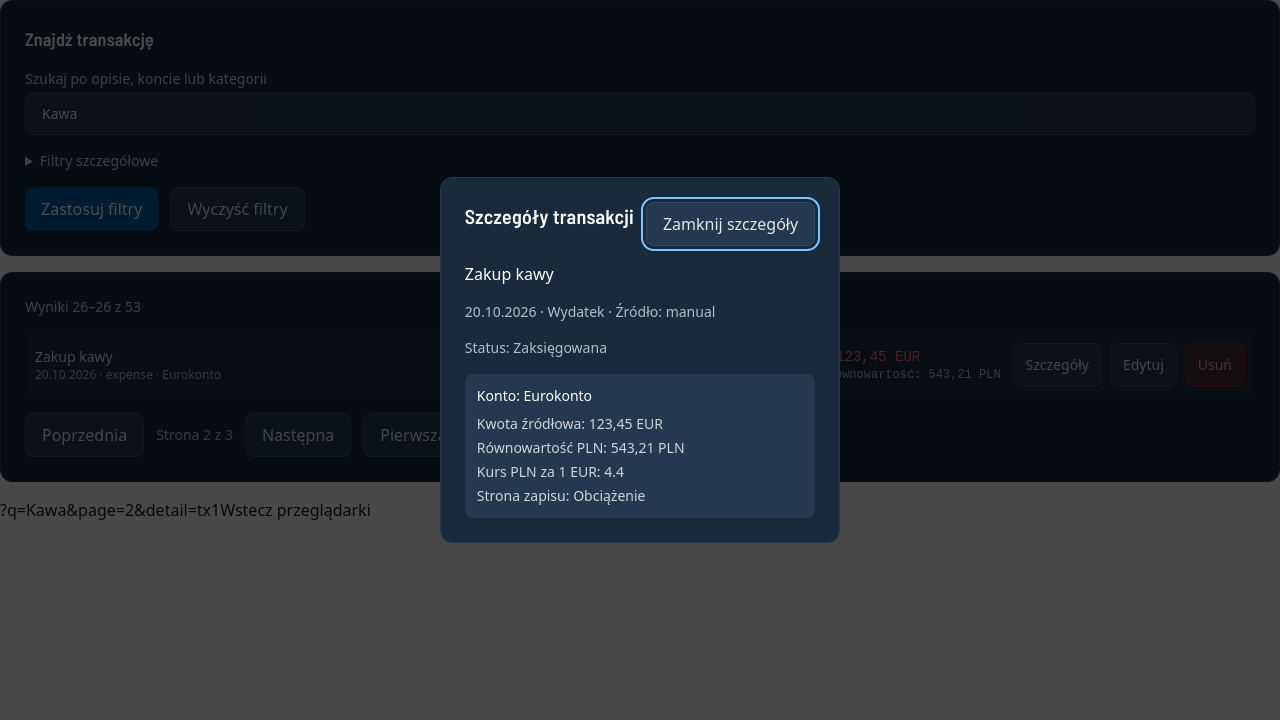
it: complete transaction history › closes a direct detail link without navigating outside the app
This screenshot has width=1280, height=720.
Click the button "Zamknij szczegóły" at (731, 224), box [646, 202, 815, 246]
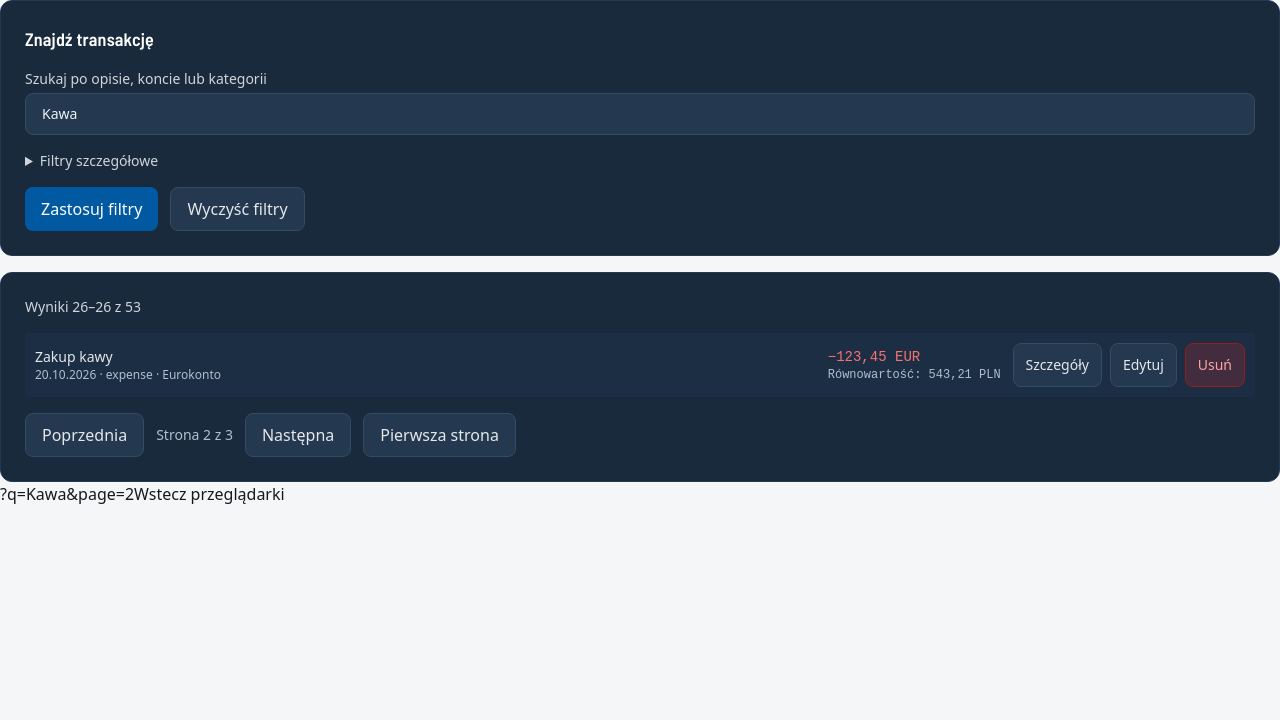
Expected: the text named "Adres" shows "page=2", [0, 483, 134, 505]
Expected: the dialog is gone
Expected: the text labelled "Adres" no longer shows "detail="
